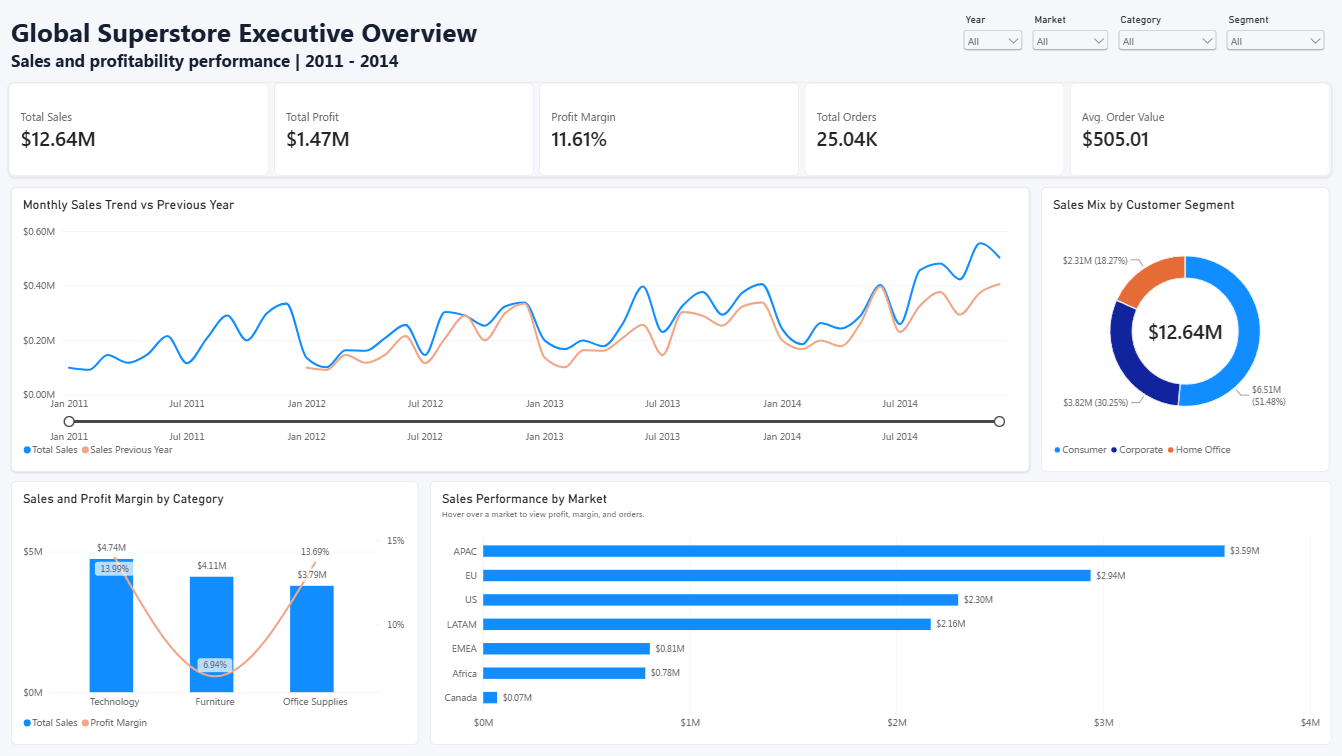

The page's visual inventory and layout, read from the dashboard file:
{"tool":"powerbi","page":{"name":"Executive Overview","canvas":[1920,1080],"ordinal":1},"visuals":[{"type":"textbox","box":[16.7,20,1340,110],"z":0},{"type":"cardVisual","fields":{"Data":["_Measures.Total Sales","_Measures.Total Profit","_Measures.Profit Margin","_Measures.Total Orders","_Measures.Average Order Value"]},"box":[13.3,116.7,1890.8,135.5],"z":1000},{"type":"slicer","fields":{"Values":["DimDate.Year"]},"box":[1372.6,19.7,94.4,73.3],"z":2000},{"type":"slicer","fields":{"Values":["DimLocation.Market"]},"box":[1471.5,19.7,117.8,65.6],"z":3000},{"type":"slicer","fields":{"Values":["DimProduct.Category"]},"box":[1594.8,19.7,150,62.2],"z":4000},{"type":"slicer","fields":{"Values":["DimCustomer.Segment"]},"box":[1749.3,19.7,150,73.3],"z":5000},{"type":"lineChart","title":"Monthly Sales Trend vs Previous Year","fields":{"Category":["DimDate.Month Start"],"Y":["_Measures.Total Sales","_Measures.Sales Previous Year"]},"box":[16.7,266.7,1455,406.7],"z":6000},{"type":"lineClusteredColumnComboChart","title":"Sales and Profit Margin by Category","fields":{"Category":["DimProduct.Category"],"Y":["_Measures.Total Sales"],"Y2":["_Measures.Profit Margin"]},"box":[16.7,686.7,581.7,376.7],"z":7000},{"type":"clusteredBarChart","title":"Sales Performance by Market","fields":{"Category":["DimLocation.Market"],"Y":["_Measures.Total Sales"]},"box":[615,687.4,1288.3,376.7],"z":8000},{"type":"donutChart","title":"Sales Mix by Customer Segment","fields":{"Category":["DimCustomer.Segment"],"Y":["_Measures.Total Sales"]},"box":[1488.3,266.7,411.7,406.7],"z":9000}]}

Visuals, with their boxes in screenshot pixels (x1, y1, x2, y2), scaled from the page's 1920x1080 canvas onto the 1342x756 screenshot:
textbox: bbox=(12, 14, 948, 91)
cardVisual - _Measures.Total Sales x _Measures.Total Profit: bbox=(9, 82, 1331, 177)
slicer - DimDate.Year: bbox=(959, 14, 1025, 65)
slicer - DimLocation.Market: bbox=(1029, 14, 1111, 60)
slicer - DimProduct.Category: bbox=(1115, 14, 1220, 57)
slicer - DimCustomer.Segment: bbox=(1223, 14, 1328, 65)
"Monthly Sales Trend vs Previous Year" lineChart: bbox=(12, 187, 1029, 471)
"Sales and Profit Margin by Category" lineClusteredColumnComboChart: bbox=(12, 481, 418, 744)
"Sales Performance by Market" clusteredBarChart: bbox=(430, 481, 1330, 745)
"Sales Mix by Customer Segment" donutChart: bbox=(1040, 187, 1328, 471)
